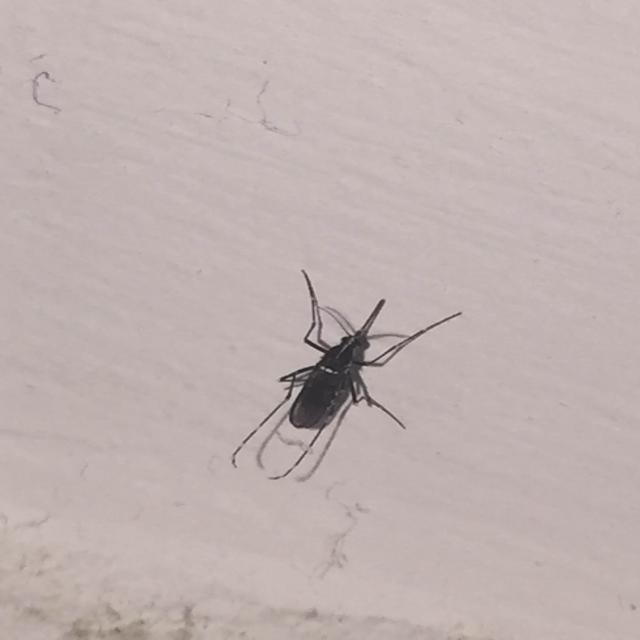albopictus: (212, 260, 458, 491)
